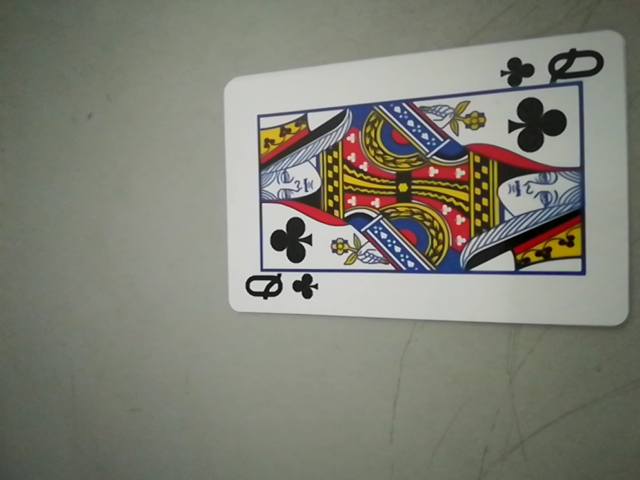mh q: (503, 46, 606, 93), (238, 267, 323, 311)
